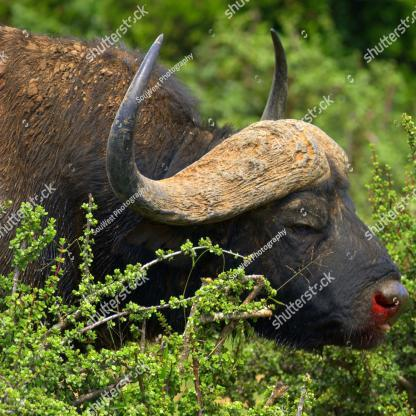buffalo: (6, 23, 408, 366)
injured: (338, 256, 395, 342)
